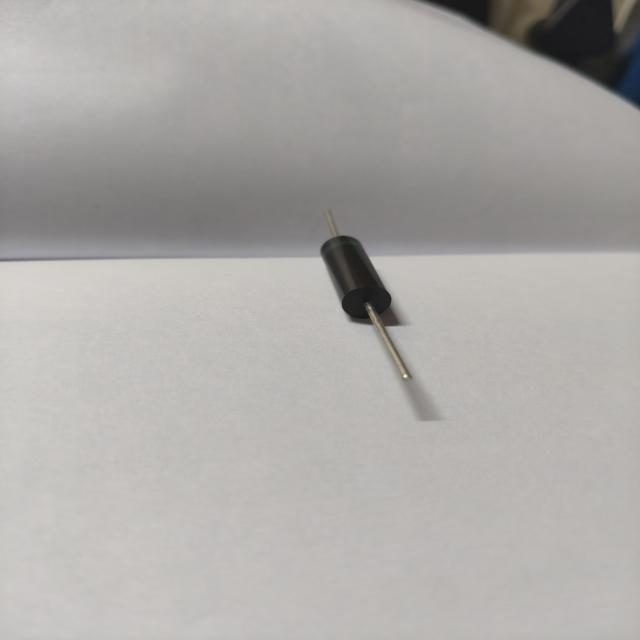resistor: (300, 192, 454, 390)
